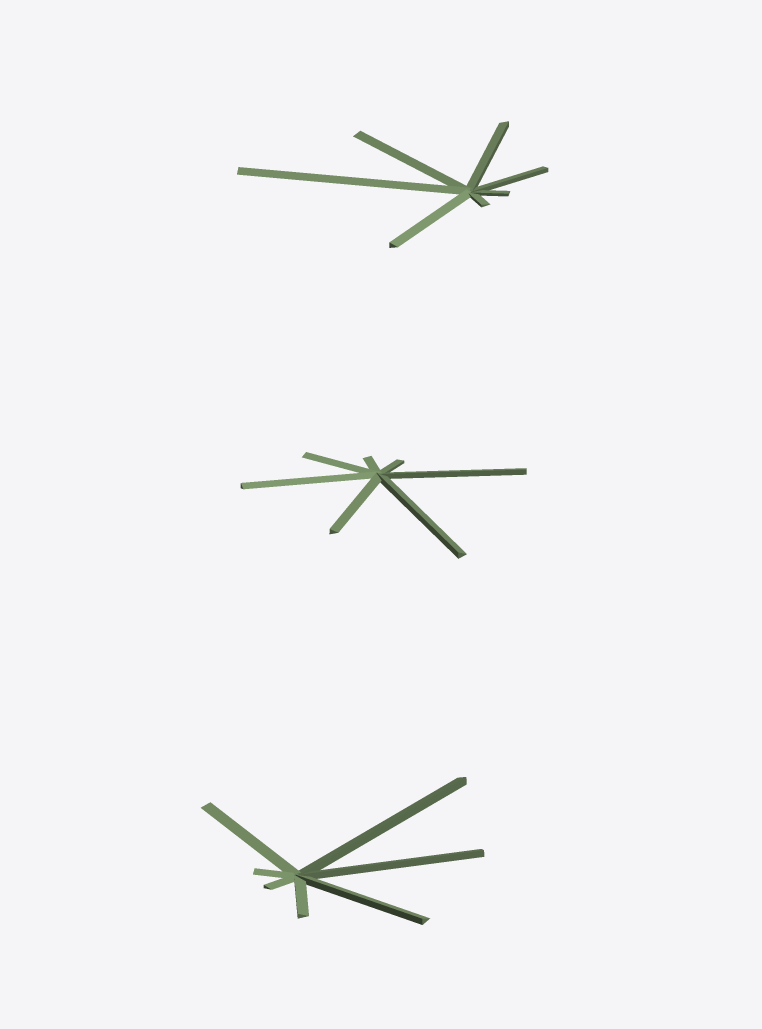
File: shui.pingpeng@fruiting__spring.glb
3 views of the same model, one above another, from view 1: azimuth 30°, elevation 25°; view 2: azimuth 150°, elevation 25°; view 3: azimuth 270°, elevation 25° (orthographic). The views are drawn at different scales.
Visible parts, largest first — view 1: shui.pingpeng@fruiting__spring; view 2: shui.pingpeng@fruiting__spring; view 3: shui.pingpeng@fruiting__spring.
Part boxes in pixels (x1=…): shui.pingpeng@fruiting__spring: x1=237, y1=121, x2=548, y2=247; shui.pingpeng@fruiting__spring: x1=240, y1=452, x2=526, y2=558; shui.pingpeng@fruiting__spring: x1=201, y1=777, x2=484, y2=924.
Bounding box in the file's own units: 1.28 × 0.0296 × 1.15.
